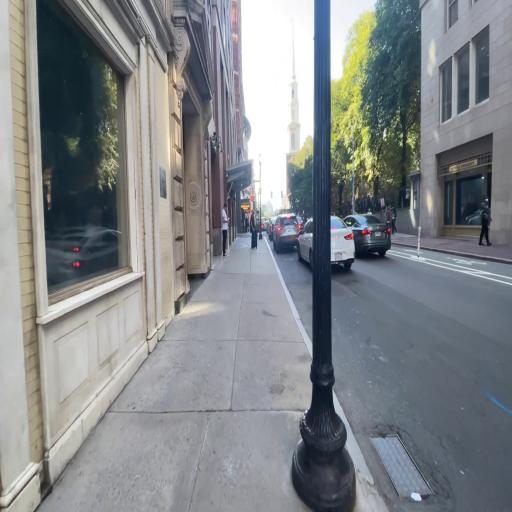Street_Light: (289, 0, 358, 512), (255, 156, 267, 242)
